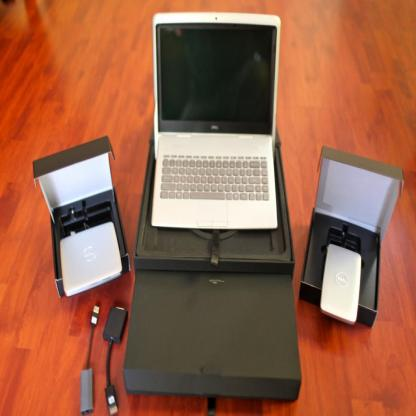board: (152, 8, 282, 230)
